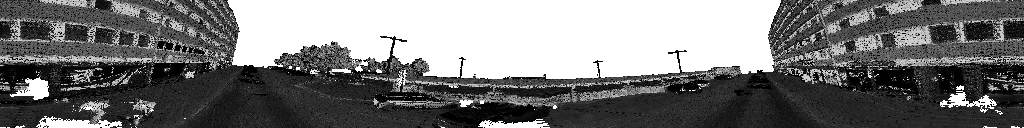light_pole: (380, 36, 406, 56), (669, 50, 686, 71), (593, 60, 602, 77), (459, 58, 465, 79)
traffic_pole: (309, 70, 318, 82)
